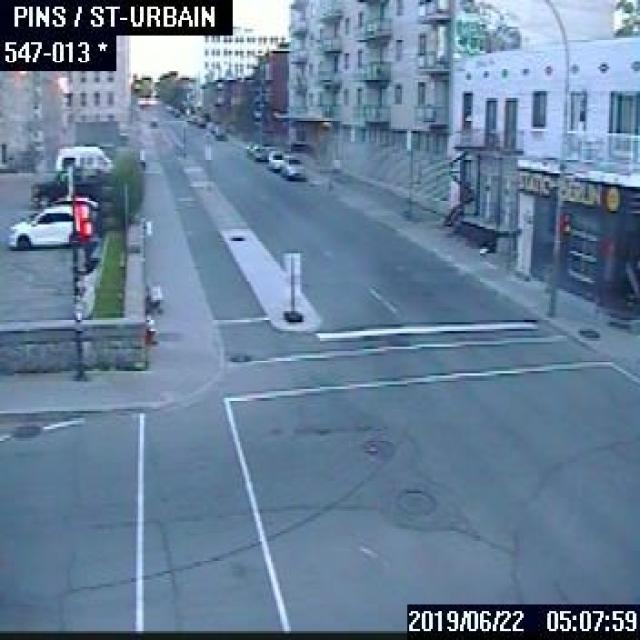vehicle: (29, 166, 112, 205), (5, 203, 71, 246), (52, 142, 112, 170), (45, 195, 97, 220), (279, 154, 304, 178), (250, 143, 275, 160), (266, 148, 284, 170), (214, 123, 224, 138), (195, 115, 205, 125), (204, 120, 213, 130)
